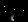person: (7, 9, 14, 21)
